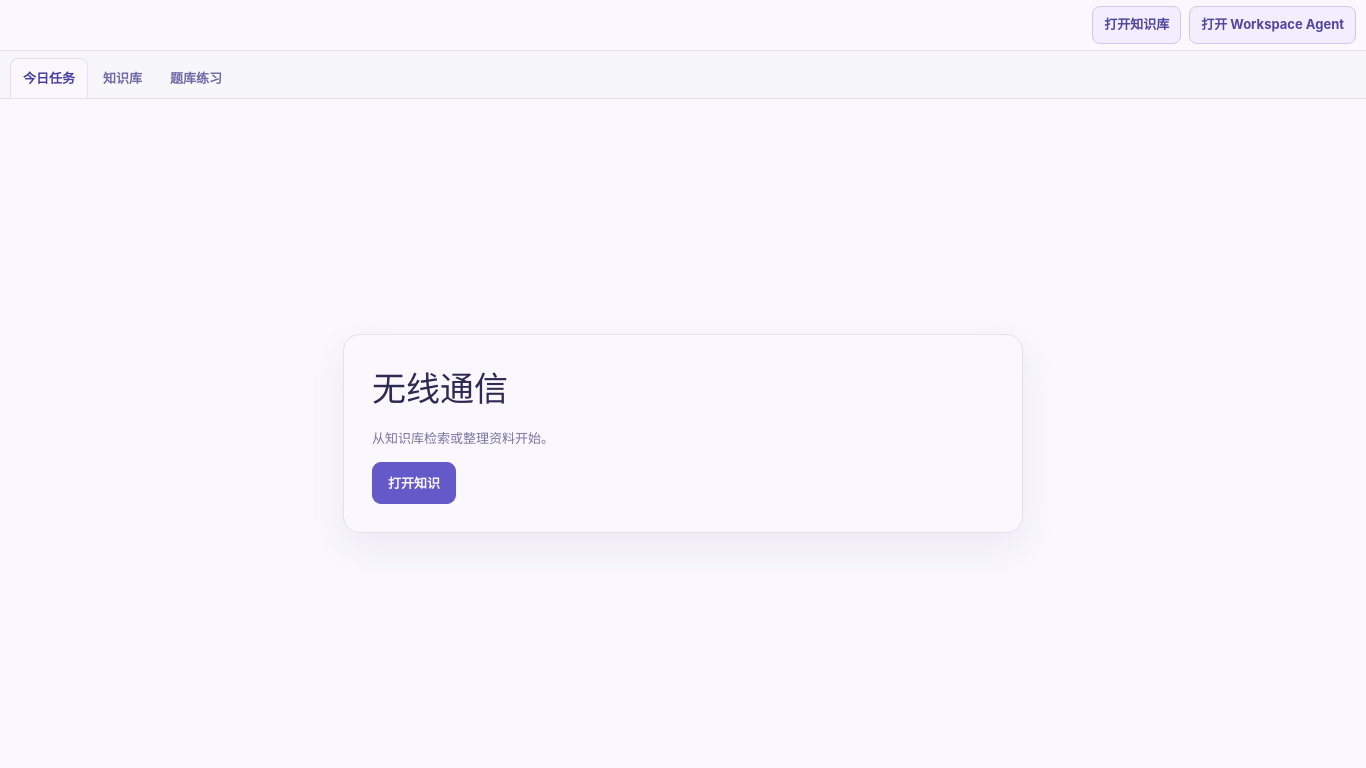
Test: WorkspaceShell › uses accessible library drawers in compact layouts without losing selection
The width and height of the screenshot is (1366, 768).
Click the button "打开知识库" at (1137, 25), box [1092, 6, 1181, 44]
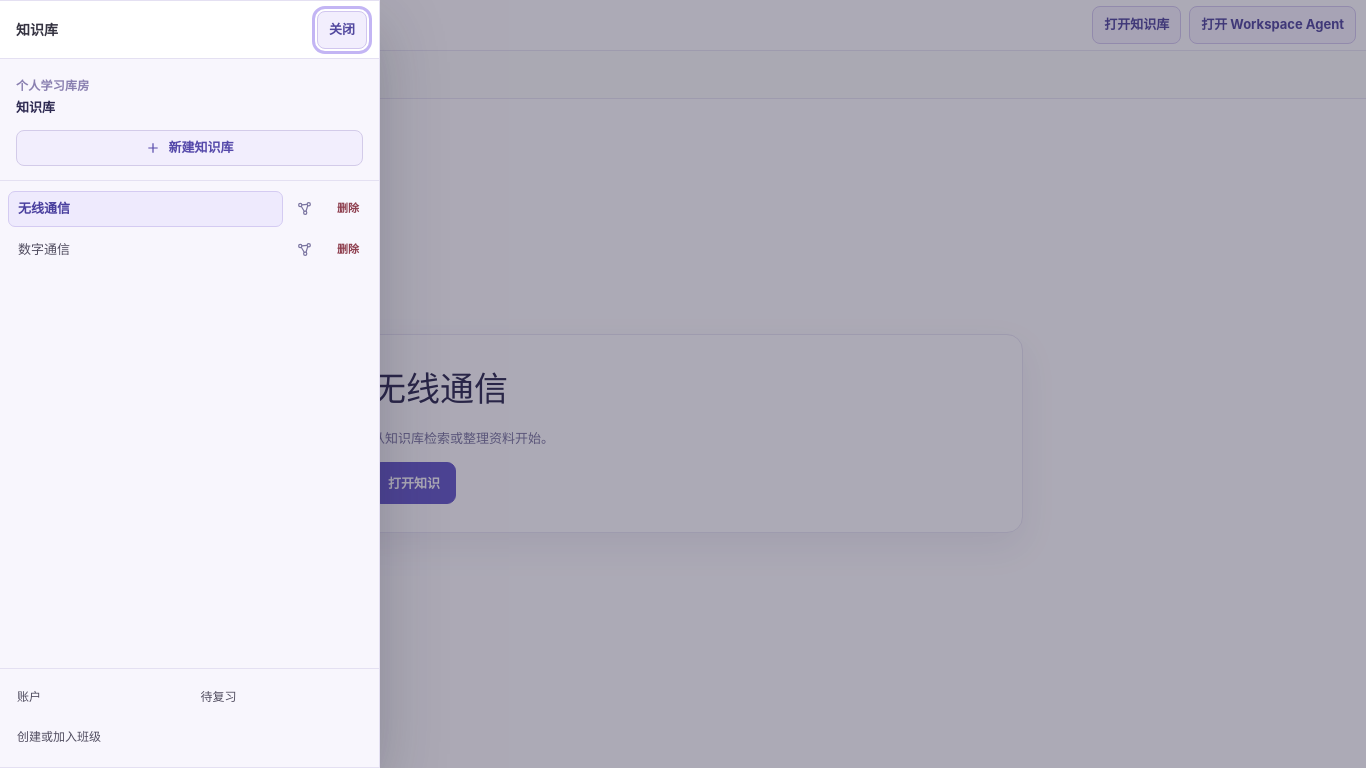
Expected: the dialog named "知识库抽屉" is shown, [0, 0, 380, 767]
Click the button with aria-label "选择数字通信" at (44, 249), box [8, 232, 283, 268]
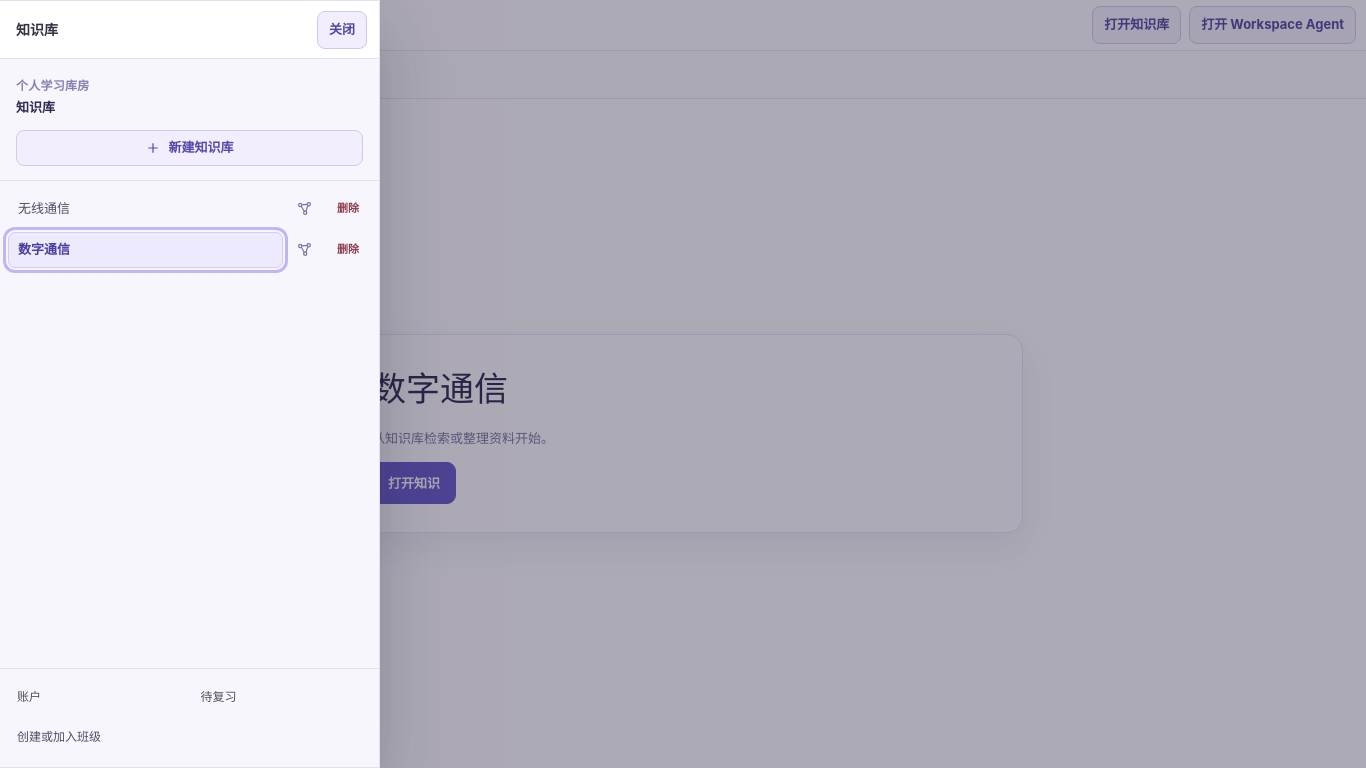
Press Escape
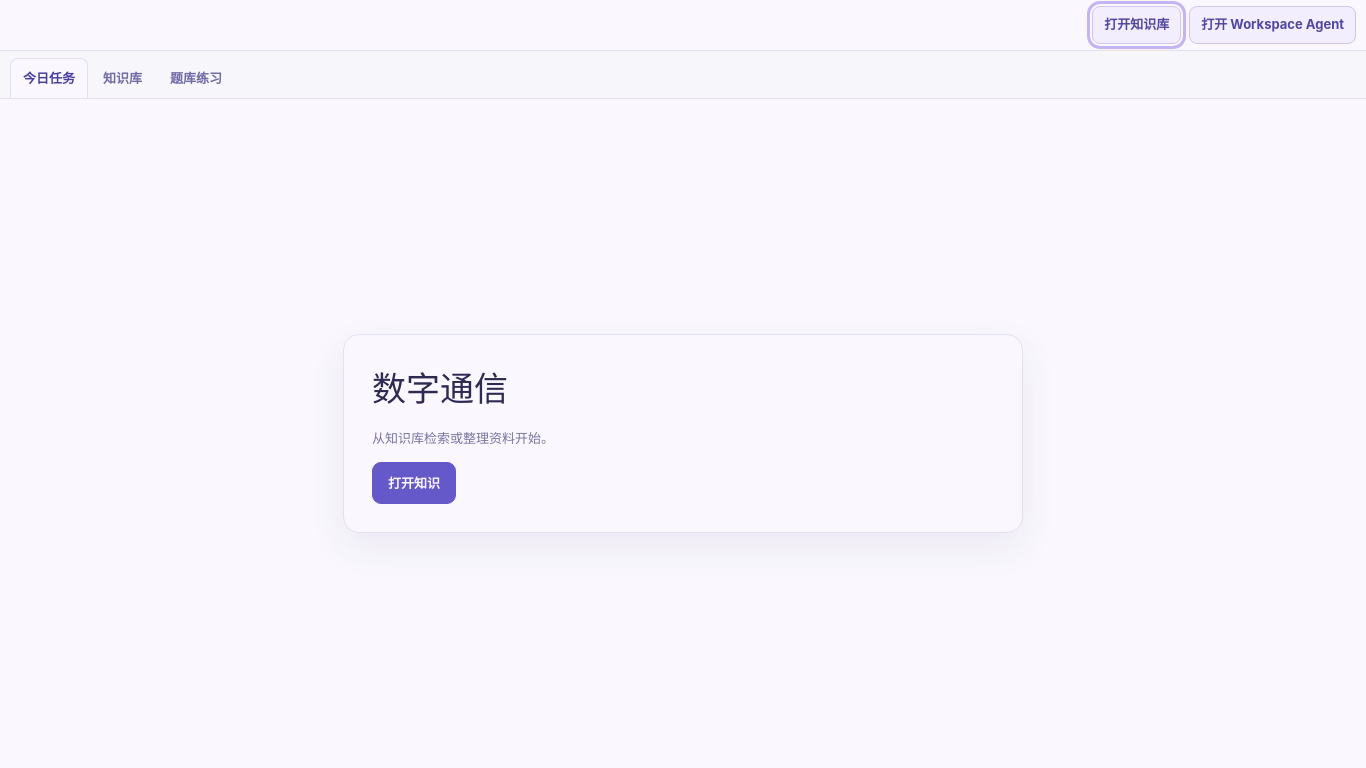
Expected: the dialog "知识库抽屉" is gone
Click the button "打开知识库" at (1137, 25), box [1092, 6, 1181, 44]
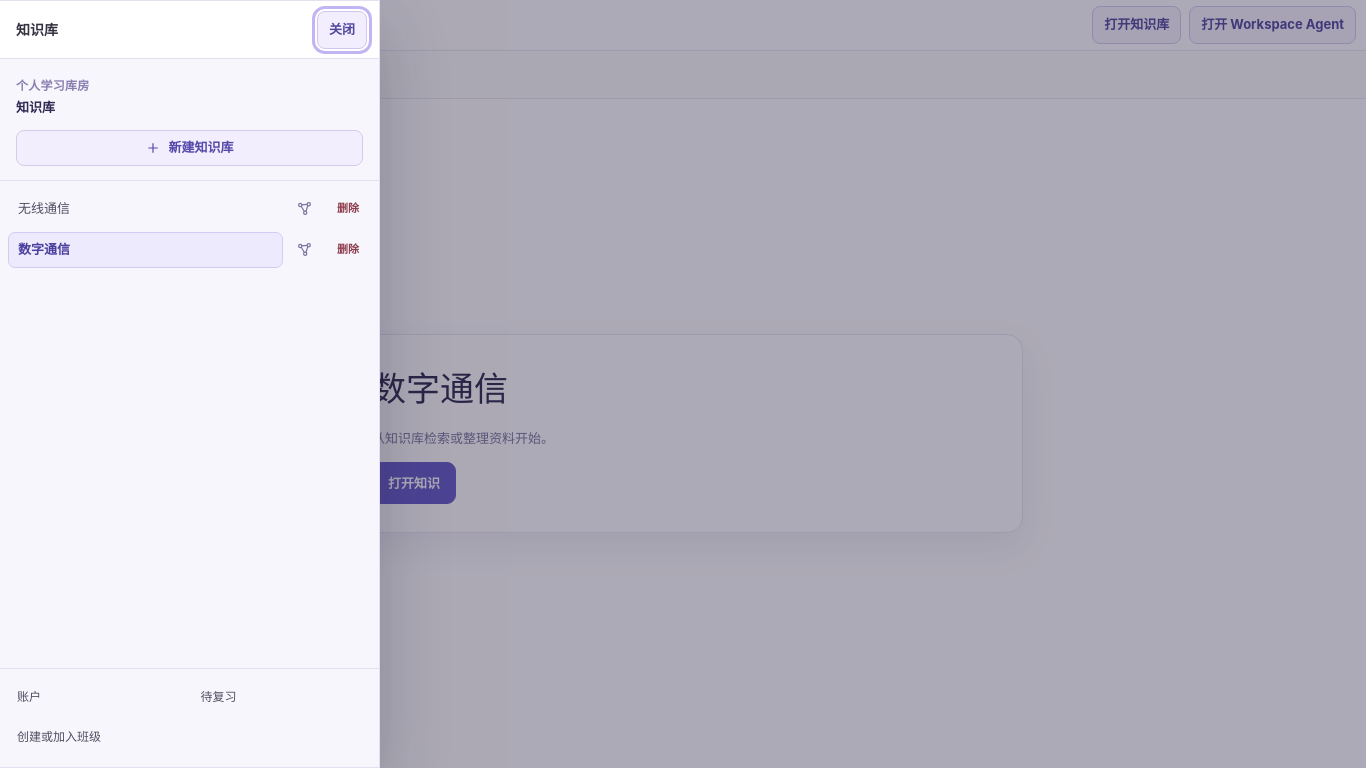
Expected: the button with aria-label "选择数字通信" is marked as current, [8, 232, 283, 268]
Click the button named "关闭知识库抽屉背景" at (683, 384), box [0, 0, 1365, 767]
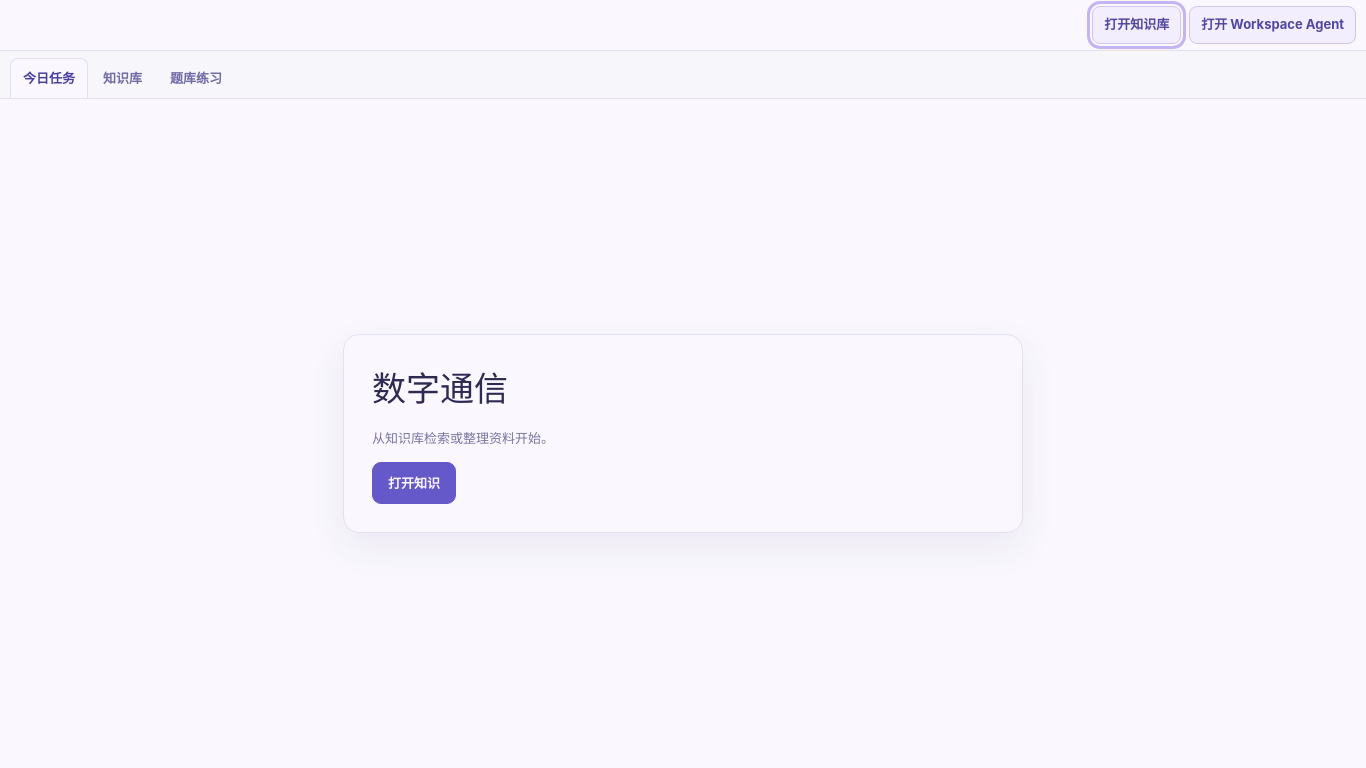
Expected: the dialog "知识库抽屉" is gone
